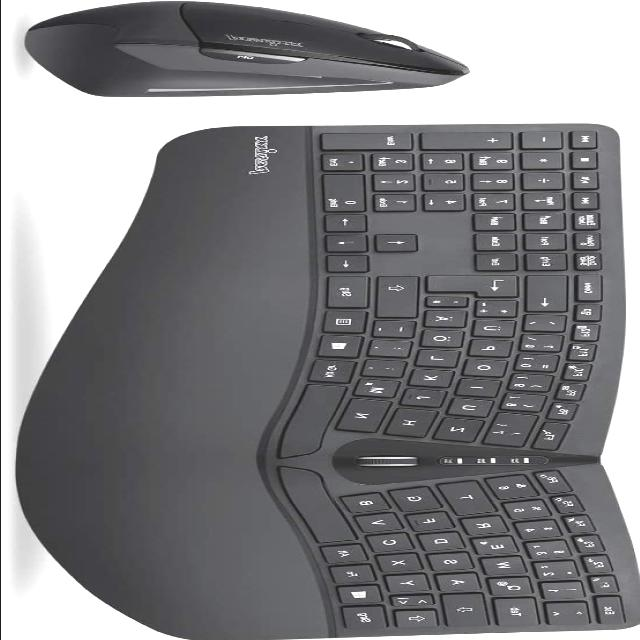0: (517, 357, 565, 375)
1: (544, 583, 590, 601)
2: (537, 563, 585, 582)
3: (529, 541, 577, 561)
4: (520, 520, 568, 540)
5: (508, 501, 556, 521)
6: (487, 475, 543, 501)
7: (487, 414, 546, 449)
8: (504, 395, 552, 413)
9: (512, 376, 558, 395)
a: (439, 574, 485, 593)
accent: (527, 316, 572, 334)
ae: (428, 312, 474, 330)
alt-left: (324, 545, 374, 565)
altgr-right: (314, 361, 362, 385)
b: (345, 493, 397, 515)
c: (370, 534, 418, 554)
caret: (549, 603, 594, 627)
comma: (367, 361, 413, 379)
d: (421, 533, 472, 553)
del: (528, 276, 574, 314)
e: (476, 537, 524, 557)
enter: (429, 277, 526, 299)
f: (410, 513, 460, 533)
g: (391, 488, 447, 513)
h: (388, 409, 444, 439)
hash: (429, 298, 477, 310)
i: (460, 380, 506, 398)
j: (404, 391, 452, 409)
k: (412, 371, 460, 389)
keyboard: (270, 125, 632, 637)
l: (420, 351, 466, 369)
less: (394, 596, 440, 609)
m: (357, 381, 405, 401)
minus: (377, 322, 422, 340)
n: (339, 399, 397, 435)
o: (467, 361, 513, 379)
oe: (424, 332, 470, 350)
p: (473, 341, 518, 359)
plus: (479, 302, 525, 320)
point: (373, 342, 417, 360)
q: (492, 578, 540, 598)
r: (464, 517, 514, 537)
s: (431, 554, 479, 573)
shift-left: (398, 611, 443, 630)
shift-lock: (445, 595, 491, 629)
shift-right: (380, 278, 425, 320)
space: (281, 469, 363, 545), (281, 385, 351, 457)
ss: (523, 336, 569, 354)
strg-left: (344, 607, 392, 632)
strg-right: (330, 277, 376, 310)
t: (442, 481, 504, 518)
tab: (497, 599, 543, 629)
u: (451, 399, 499, 419)
ue: (476, 321, 522, 339)
v: (358, 514, 408, 535)
w: (486, 557, 534, 577)
x: (380, 554, 428, 574)
y: (389, 575, 435, 594)
z: (437, 419, 489, 444)
